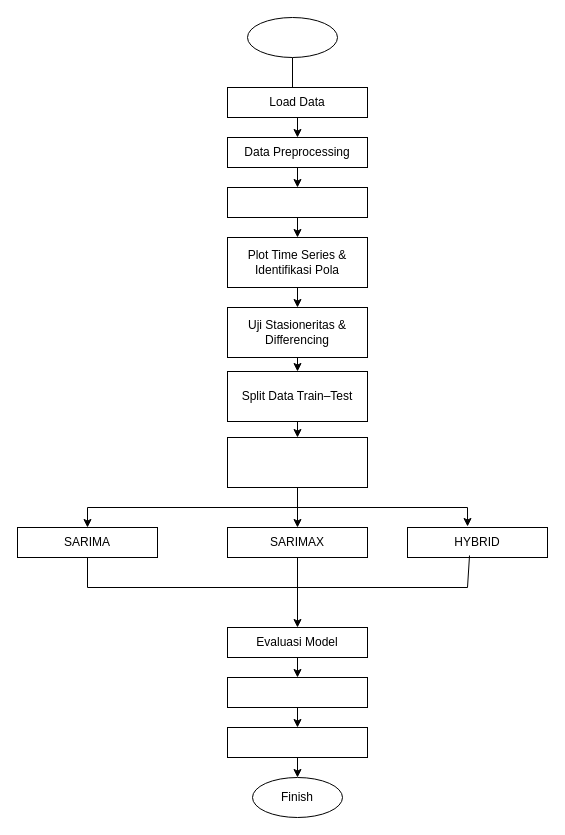
The diagram is 565 pixels wide and 835 high, and some of its shapes have lost their labels. Each missing label, with the box of its shape:
Forecasting & Visualisasi: (226, 726, 368, 758)
Identifikasi & Perancangan Model: (226, 436, 368, 488)
Pemilihan Model Terbaik: (226, 676, 368, 708)
Start: (246, 16, 338, 58)
Time Series Preprocessing: (226, 186, 368, 218)
